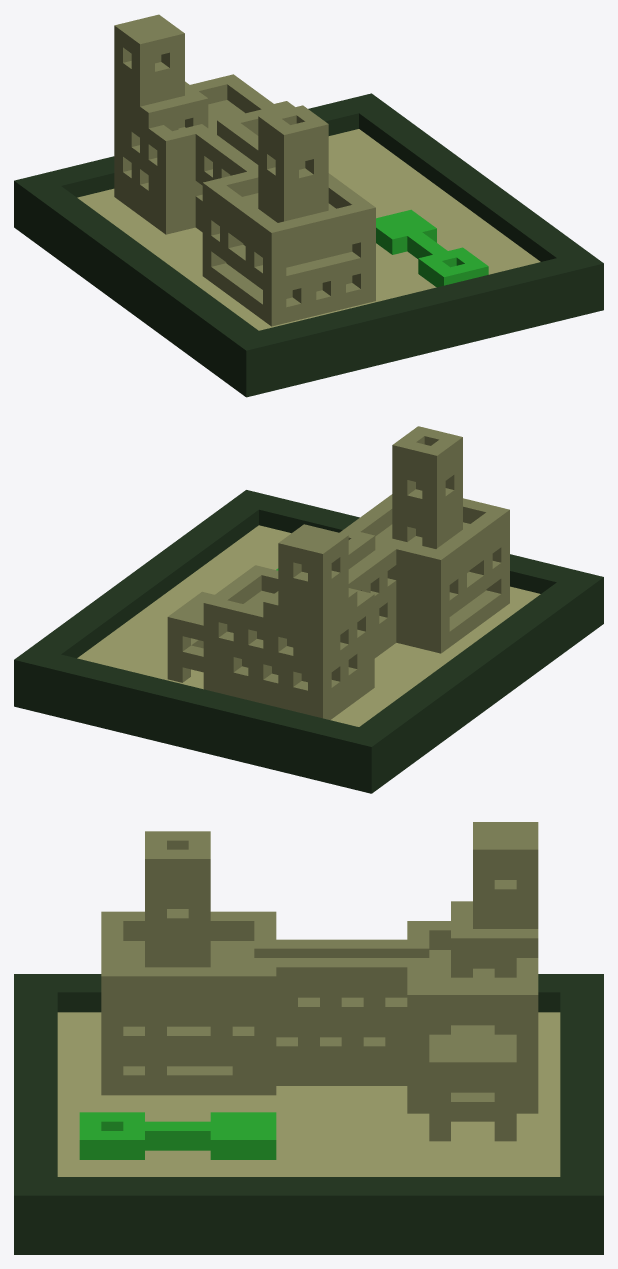
The model's file is piaskownica.dae.
The picture shows the model from 3 angles, top to bottom: view 1: azimuth 30°, elevation 25°; view 2: azimuth 150°, elevation 25°; view 3: azimuth 270°, elevation 25°; orthographic projection. The views are drawn at different scales.
Parts seen in each view (by area): view 1: Content; view 2: Content; view 3: Content.
Boxes of the visible parts, box(x1,y1,x2,y2) form: Content: box(14, 14, 603, 397); Content: box(14, 426, 603, 793); Content: box(14, 822, 603, 1254).
Size of the model in its own units: 24 by 13 by 27.
1 material, 1 textured.
